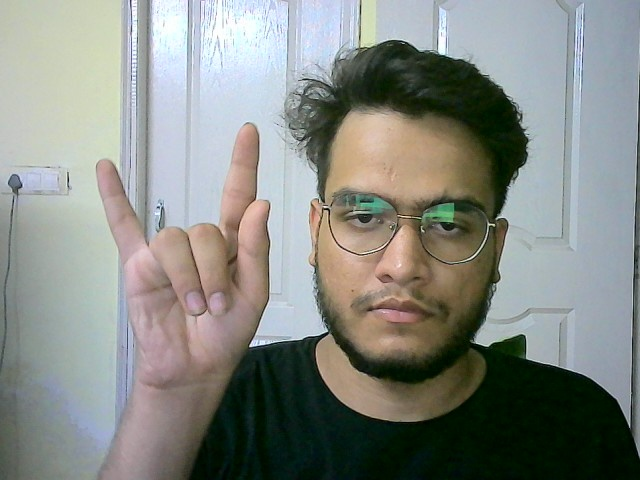I Love You: (87, 119, 286, 381)
